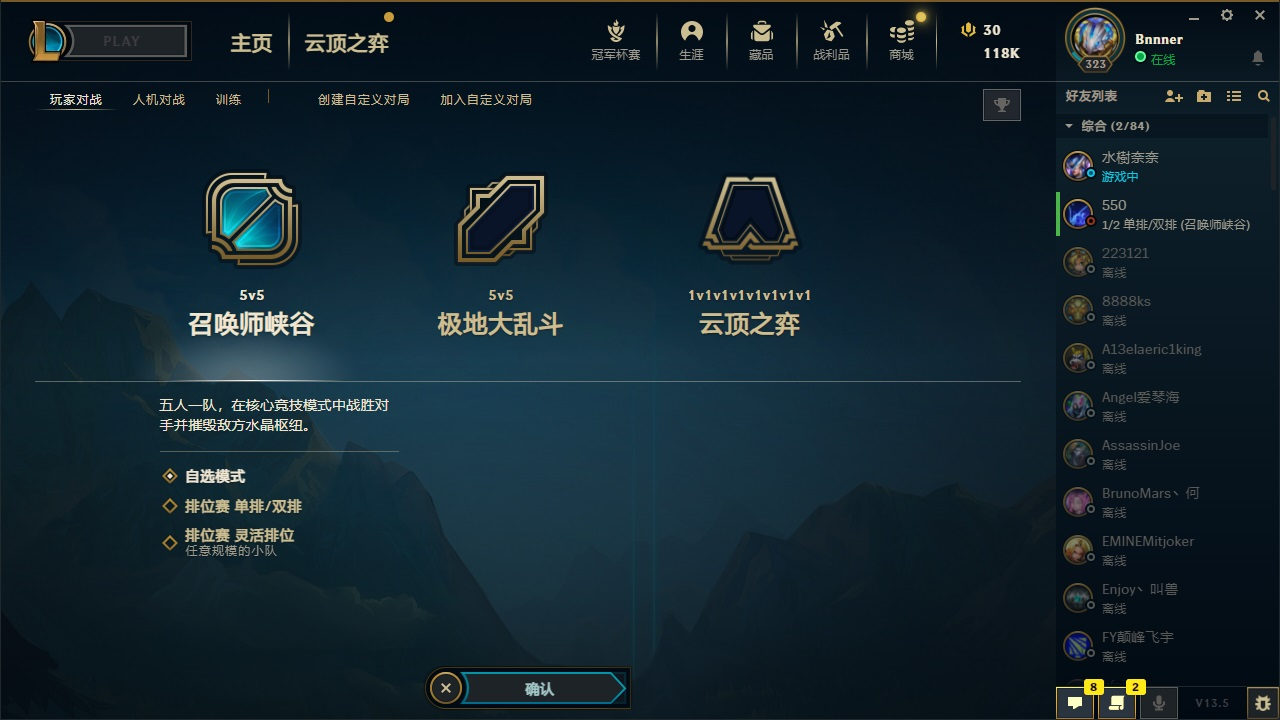HSPLAY: (65, 18, 192, 59)
QR: (466, 671, 608, 703)
RJDZ: (124, 84, 191, 112)
